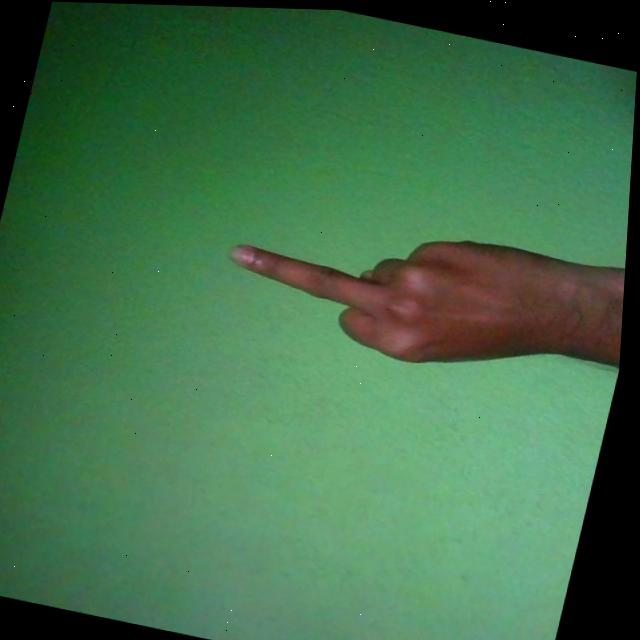Middle Finger: (212, 186, 632, 397)
